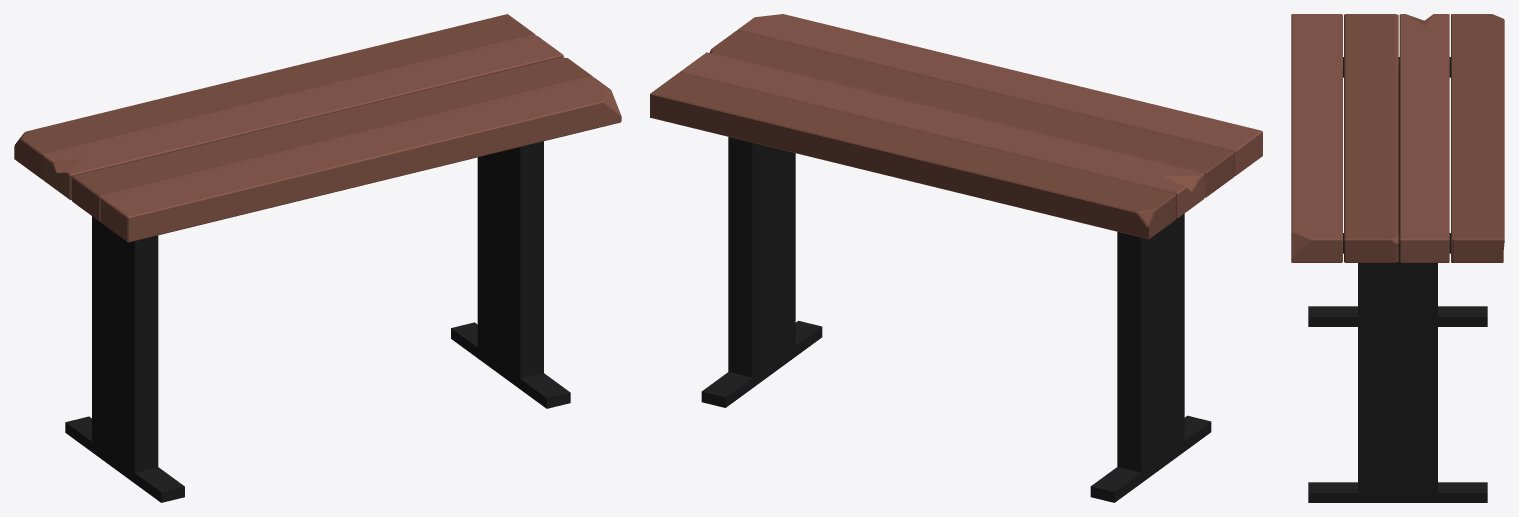
Rendered from Desktop 1.fbx.
3 views of the same model, side by side, from view 1: azimuth 30°, elevation 25°; view 2: azimuth 150°, elevation 25°; view 3: azimuth 270°, elevation 25° (orthographic). The views are drawn at different scales.
Visible parts, largest first — view 1: Cube; view 2: Cube; view 3: Cube.
Boxes of the visible parts, <box> form: Cube: <box>14,14,621,502</box>; Cube: <box>650,14,1262,502</box>; Cube: <box>1291,14,1504,502</box>.
Bounding box in the file's own units: 100 × 58.5 × 40.
